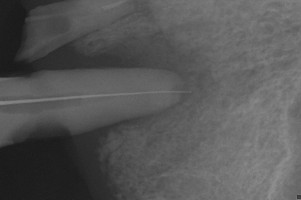Dental Caries: (32, 29, 220, 128)
